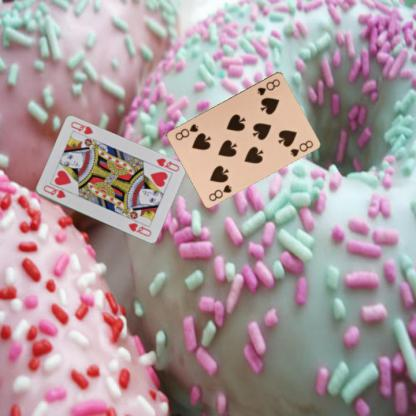8s: (206, 182, 233, 203), (255, 76, 281, 96)
Qh: (40, 182, 67, 200), (153, 155, 180, 173)
